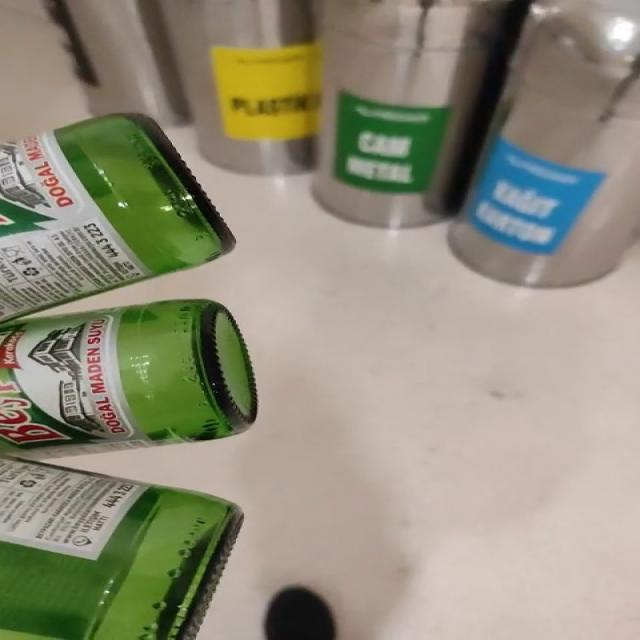glass: (0, 300, 257, 640), (0, 115, 235, 319)
